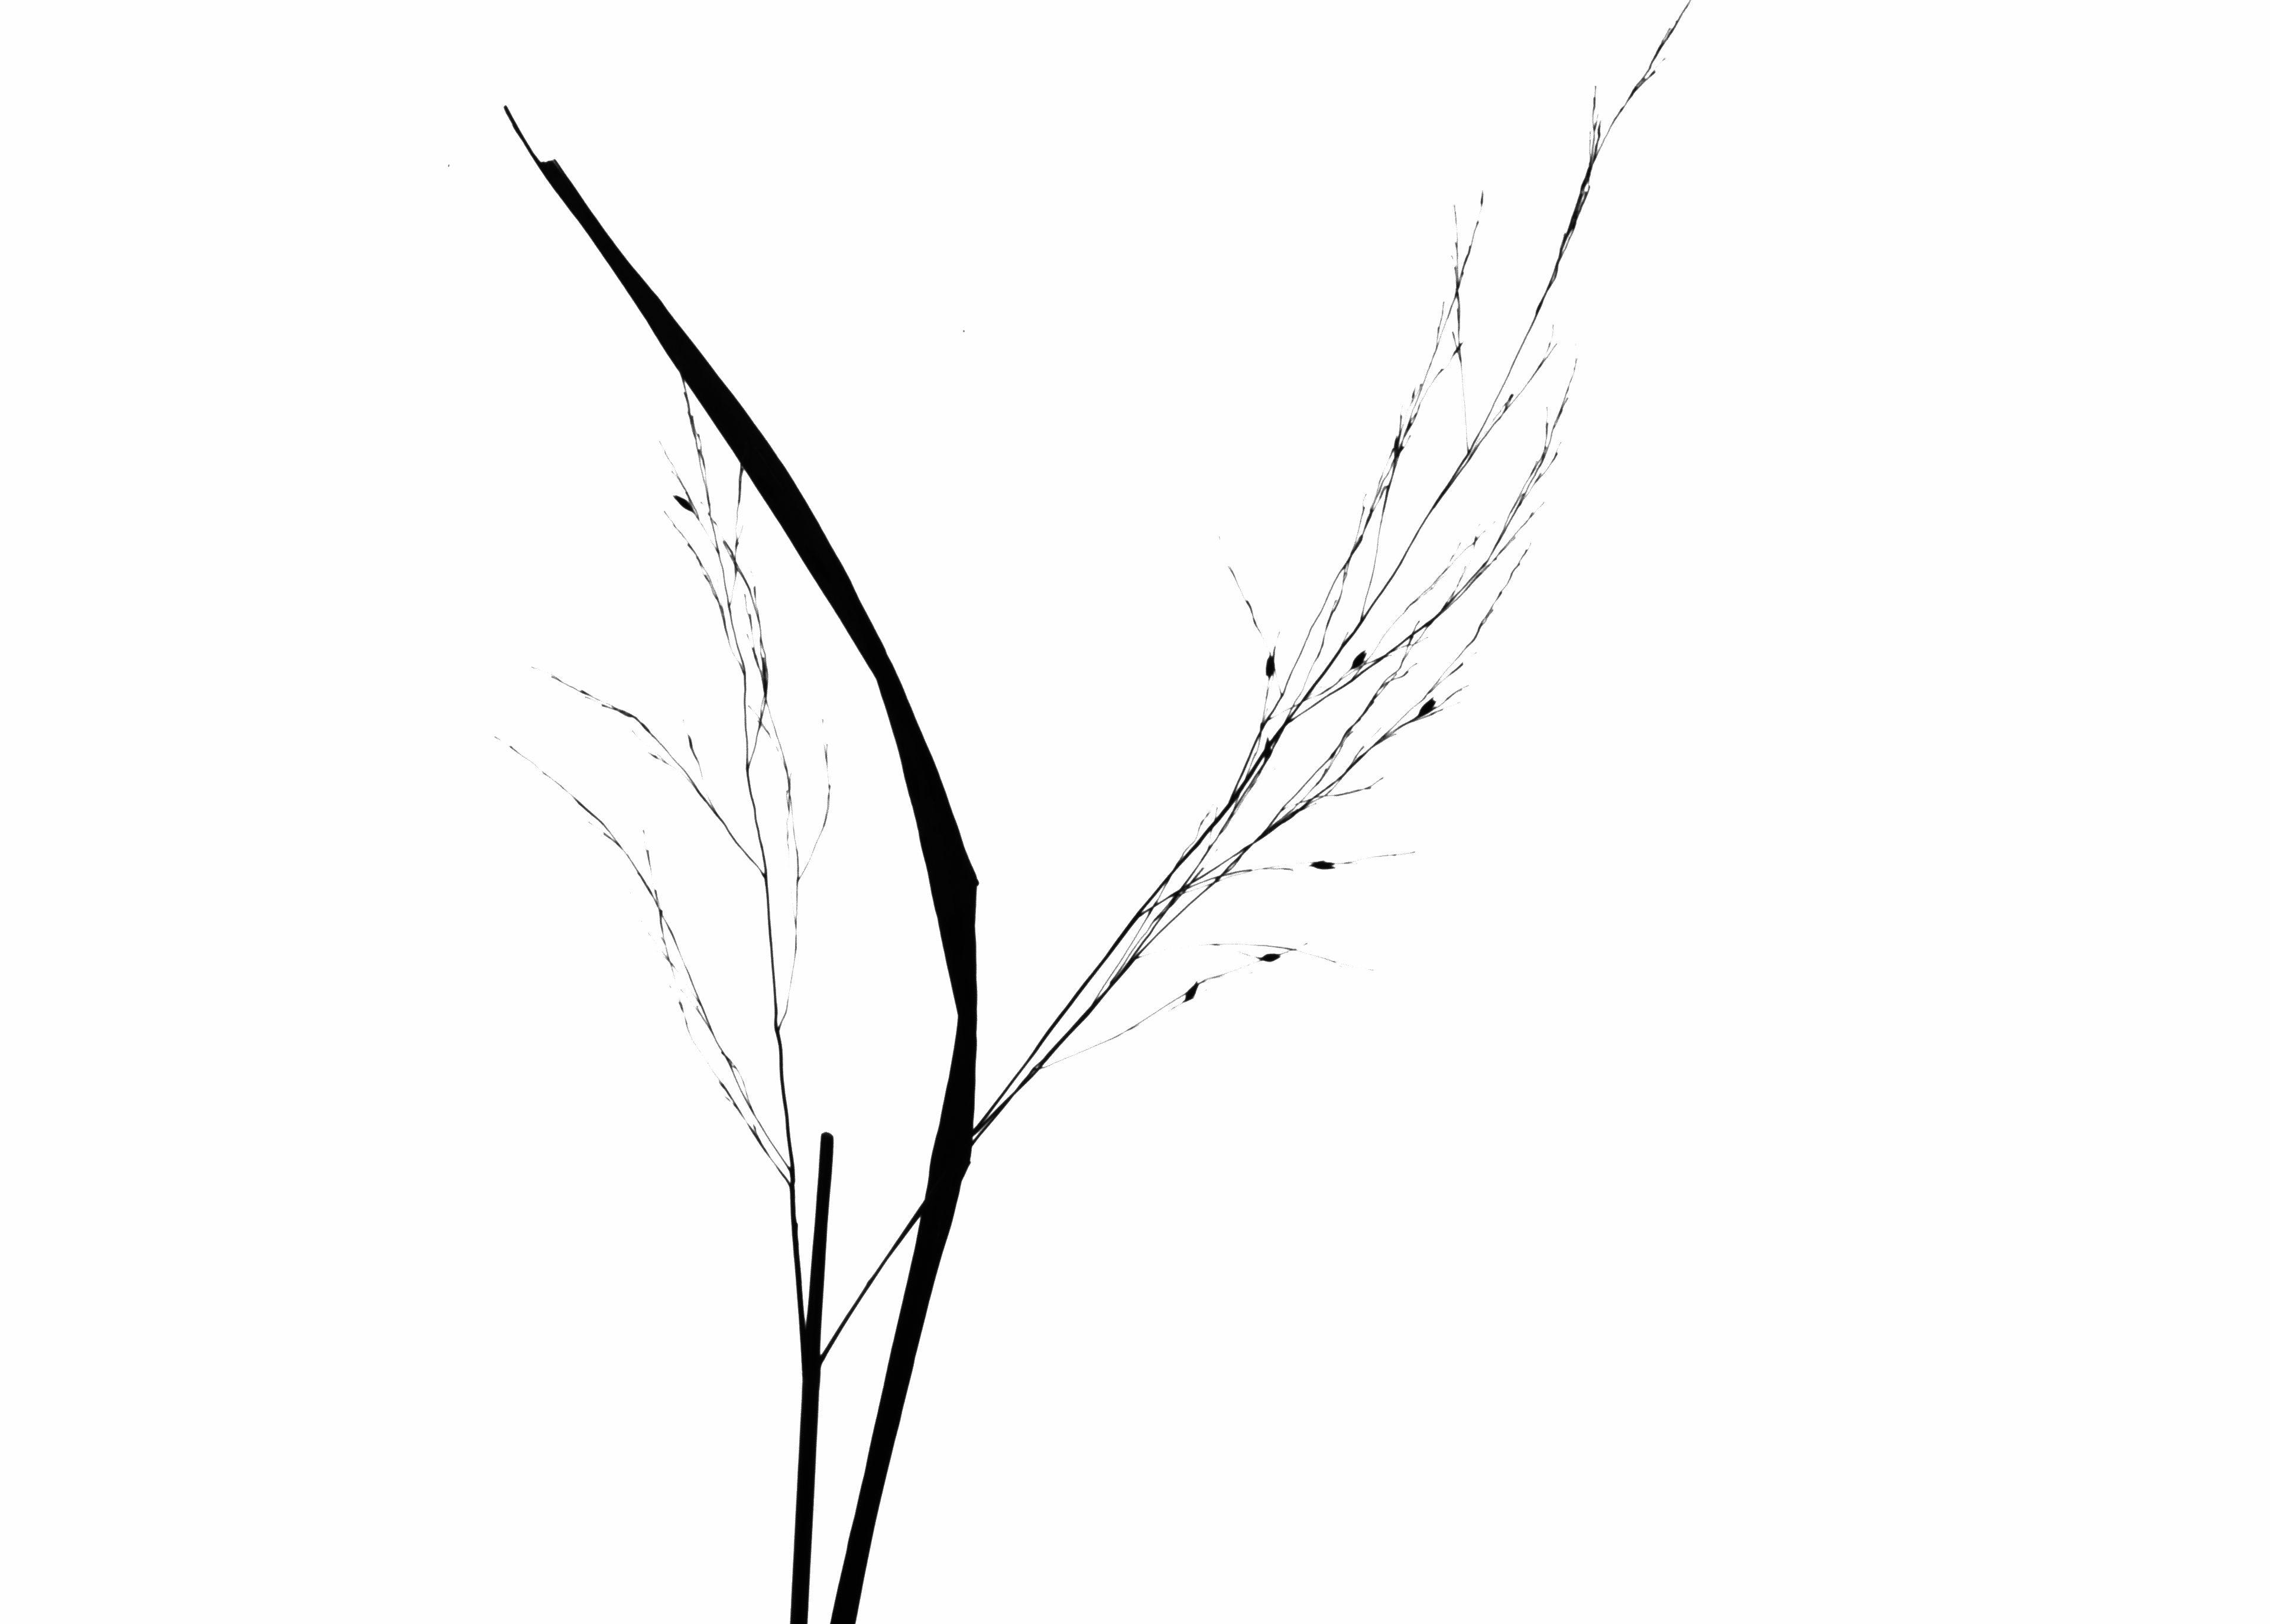seed: (670, 489, 703, 526), (1180, 972, 1203, 1011), (1306, 854, 1342, 877), (1347, 647, 1371, 678), (1414, 694, 1440, 722), (1255, 949, 1285, 968), (1262, 649, 1278, 684)
